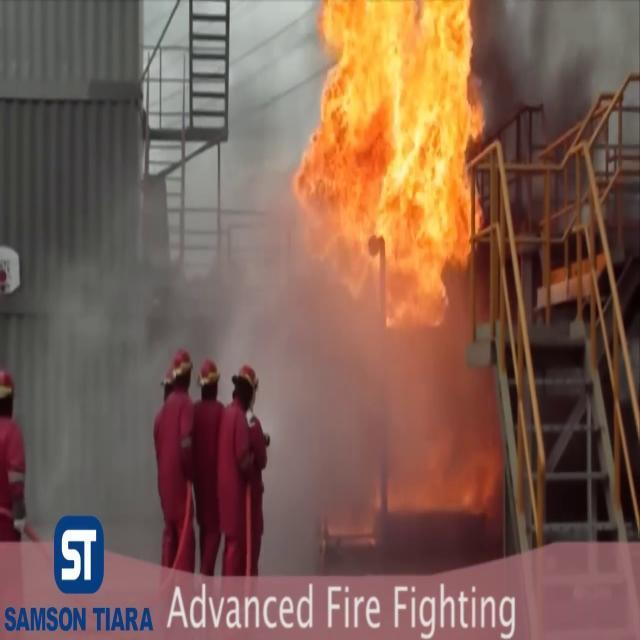Fire: (286, 1, 490, 316)
